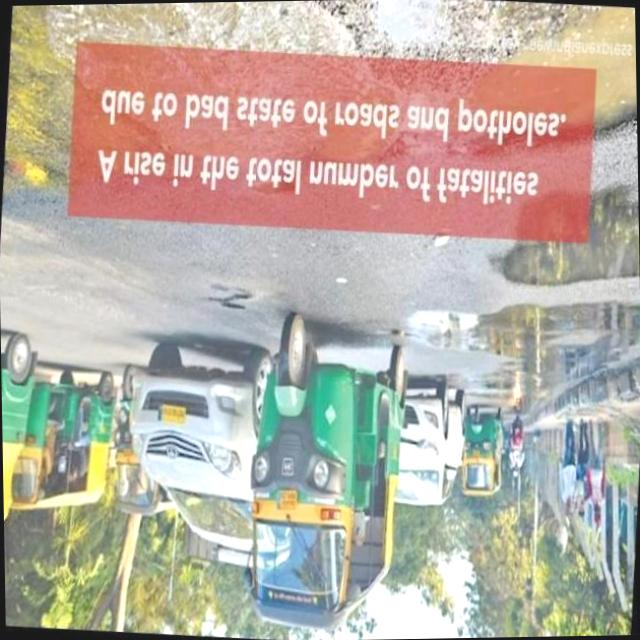Pathole: (470, 9, 637, 150), (6, 149, 61, 189), (211, 281, 250, 311)
